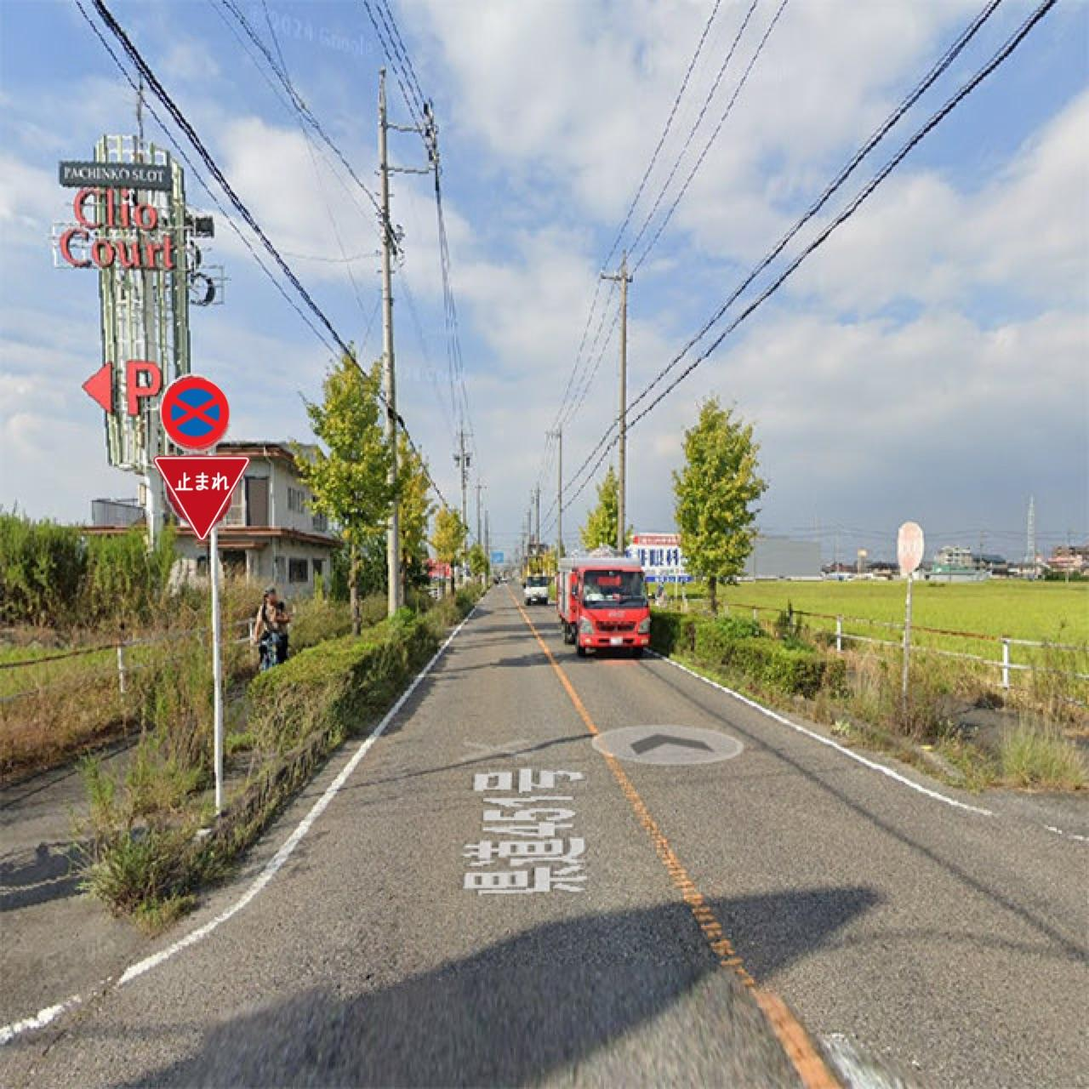stop_sign: (160, 378, 229, 448)
